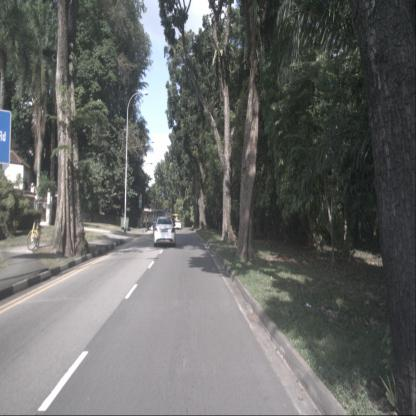vehicle-bicycle: (26, 213, 42, 250)
vehicle-car: (153, 216, 176, 247), (174, 220, 182, 230)
vehicle-truck: (153, 210, 166, 237)
